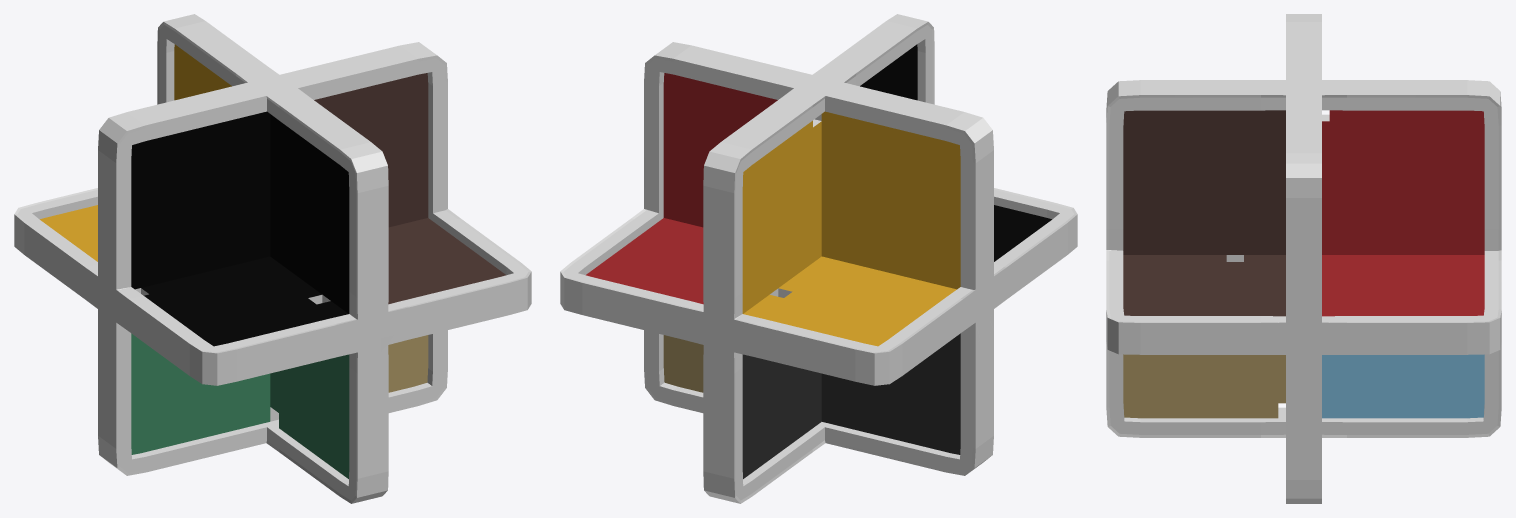
The picture shows the model from 3 angles, left to right: view 1: azimuth 30°, elevation 25°; view 2: azimuth 150°, elevation 25°; view 3: azimuth 270°, elevation 25°; orthographic projection.
Visible parts, largest first — view 1: Cube.010; view 2: Cube.010; view 3: Cube.010.
Boxes of the visible parts, box(x1,y1,x2,y2) form: Cube.010: box(14, 14, 531, 503); Cube.010: box(560, 14, 1077, 503); Cube.010: box(1106, 14, 1501, 503).
Size of the model in its own units: 2200 by 2200 by 2300.
